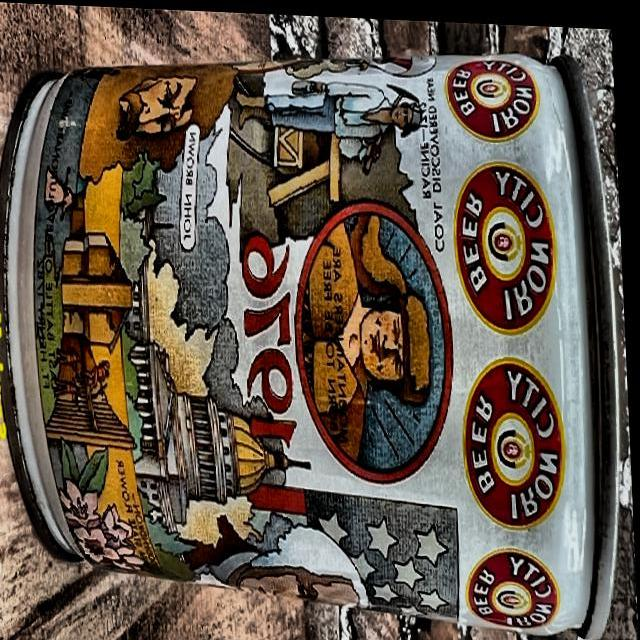Aluminum Can: (0, 20, 636, 640)
